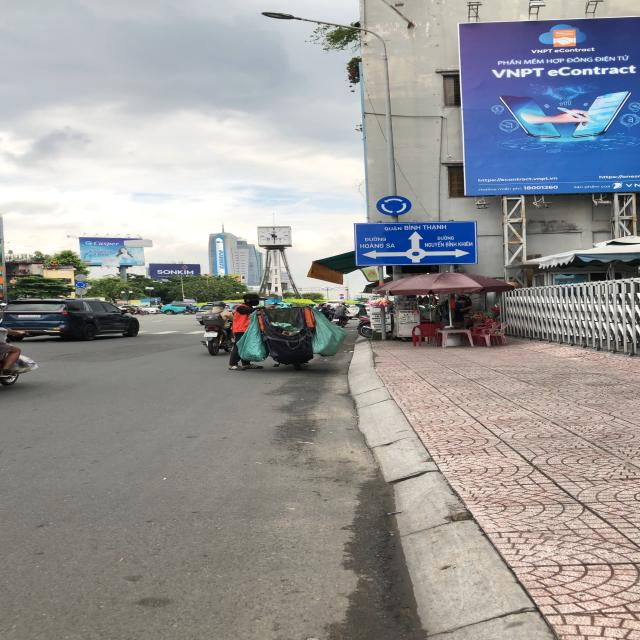Bien bao noi giao nhau chay theo vong xuyen: (376, 193, 414, 217), (74, 280, 88, 288)
